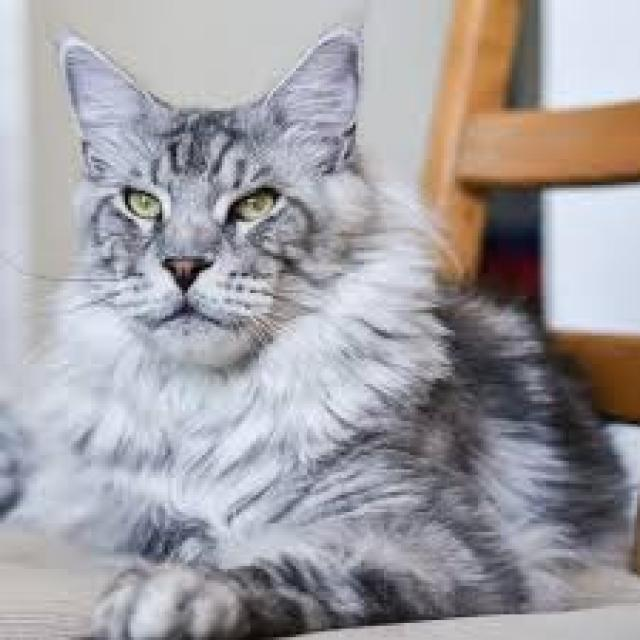Cat: (2, 28, 634, 640)
